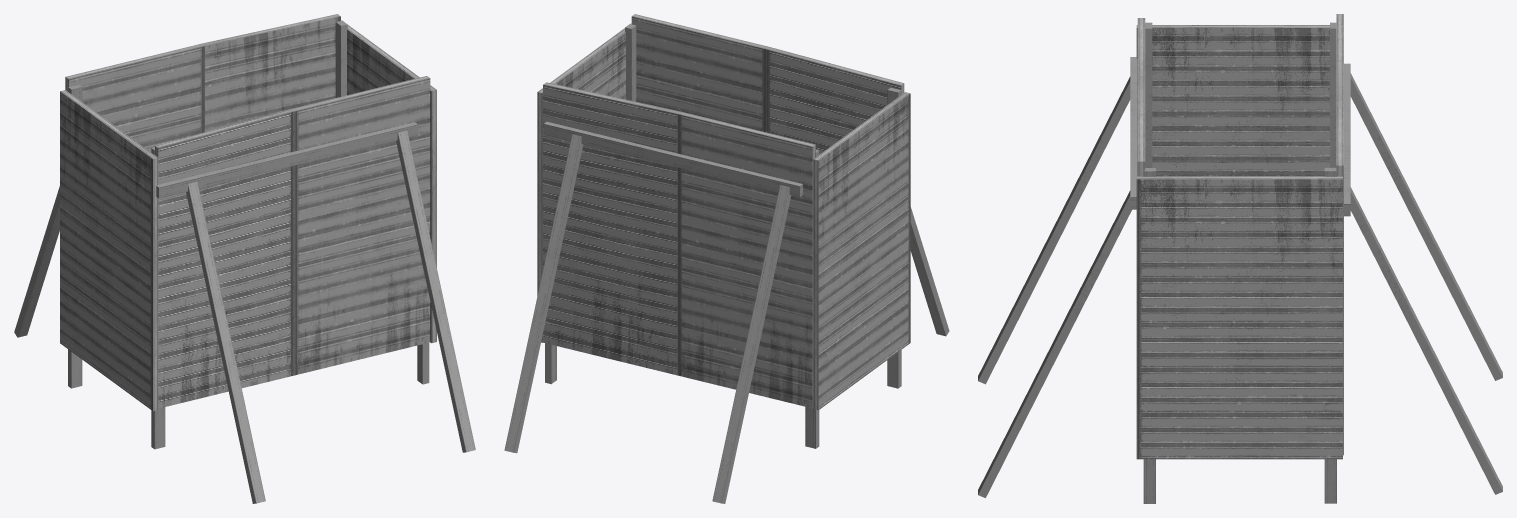
Rendered from CP_Louvered_Screen_02.fbx.
3 views of the same model, side by side, from view 1: azimuth 30°, elevation 25°; view 2: azimuth 150°, elevation 25°; view 3: azimuth 270°, elevation 25° (orthographic). The views are drawn at different scales.
Parts seen in each view (by area): view 1: CP_Louvered_Screen_02; view 2: CP_Louvered_Screen_02; view 3: CP_Louvered_Screen_02.
Part boxes in pixels (x1=…): CP_Louvered_Screen_02: x1=14, y1=14, x2=475, y2=503; CP_Louvered_Screen_02: x1=504, y1=14, x2=949, y2=503; CP_Louvered_Screen_02: x1=978, y1=14, x2=1502, y2=503.
Bounding box in the file's own units: 441 × 469 × 635.
